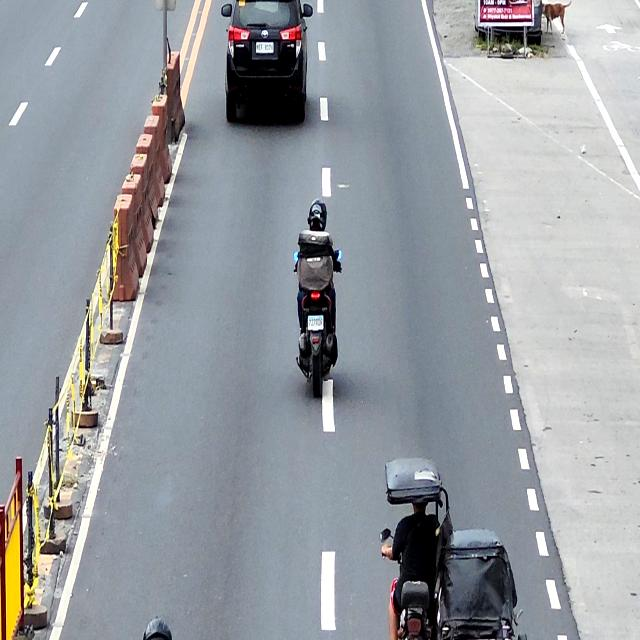Car: (221, 0, 314, 126)
License-Plate: (307, 316, 324, 332), (255, 42, 274, 54)
Motorcycle: (293, 246, 342, 398)
Tricycle: (378, 459, 526, 640)
